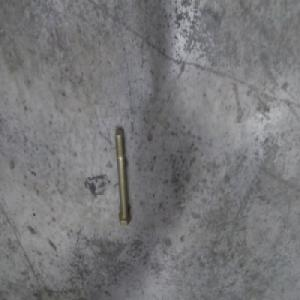Bolt: (114, 127, 132, 229)
